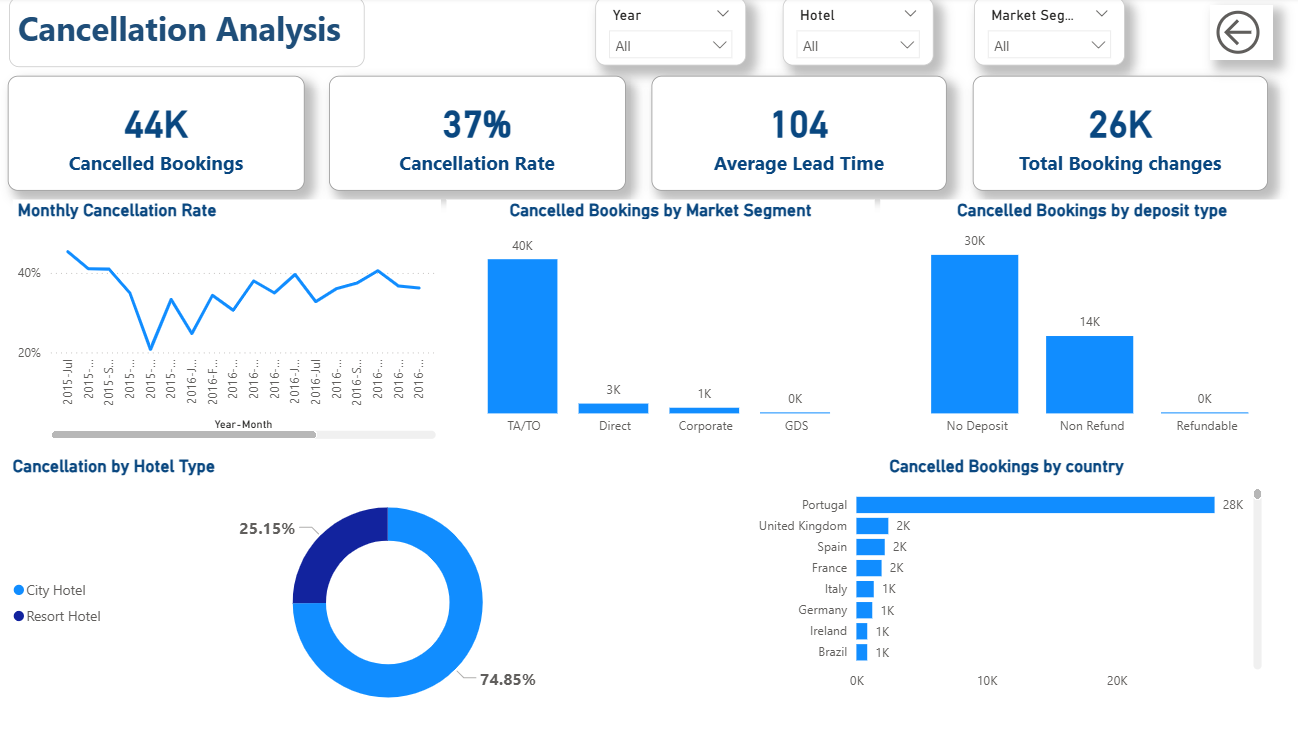

What the dashboard file says about the page in this screenshot:
{"tool":"powerbi","page":{"name":"Cancellation Analysis","canvas":[1280,720],"ordinal":4},"visuals":[{"type":"textbox","box":[9.6,0,348.5,68.6],"z":0},{"type":"slicer","fields":{"Values":["Dim_Date.Year"]},"box":[584.6,0,148.2,67.2],"z":1000},{"type":"slicer","fields":{"Values":["Dim_Hotel.hotel"]},"box":[768.4,0,148.2,67.2],"z":2000},{"type":"slicer","fields":{"Values":["Dim_MarketSegment.market_segment"]},"box":[956.4,0,148.2,67.2],"z":3000},{"type":"card","fields":{"Values":["hotel_bookings.Cancelled Bookings"]},"box":[8.2,76.8,290.9,112.5],"z":4000},{"type":"card","fields":{"Values":["hotel_bookings.Cancellation Rate"]},"box":[323.8,76.8,290.9,112.5],"z":5000},{"type":"card","fields":{"Values":["hotel_bookings.Average Lead Time"]},"box":[639.5,76.8,289.5,112.5],"z":6000},{"type":"card","fields":{"Values":["Sum(hotel_bookings.booking_changes)"]},"box":[955.1,76.8,289.5,112.5],"z":7000},{"type":"clusteredColumnChart","title":"Cancelled Bookings by Market Segment","fields":{"Category":["hotel_bookings.distribution_channel"],"Y":["hotel_bookings.Cancelled Bookings"]},"box":[439.1,199,420,240],"z":8000},{"type":"lineChart","title":"Monthly Cancellation Rate","fields":{"Y":["hotel_bookings.Cancellation Rate"],"Category":["Dim_Date.Year-Month"]},"box":[13.7,199,420,240],"z":9000},{"type":"donutChart","title":"Cancellation by Hotel Type","fields":{"Category":["Dim_Hotel.hotel"],"Y":["hotel_bookings.Cancelled Bookings"]},"box":[8.2,450.1,650.4,269],"z":10000},{"type":"columnChart","title":"Cancelled Bookings by deposit type","fields":{"Category":["hotel_bookings.deposit_type"],"Y":["hotel_bookings.Cancelled Bookings"]},"box":[864,199,416,240],"z":11000},{"type":"clusteredBarChart","title":"Cancelled Bookings by country","fields":{"Y":["hotel_bookings.Cancelled Bookings"],"Category":["Dim_country.Country Name"]},"box":[732.8,450.1,510.5,238.8],"z":12000},{"type":"actionButton","box":[1188.1,6.8,61.3,54.5],"z":13000}]}

Visuals, with their boxes in screenshot pixels (x1, y1, x2, y2), scaled from the page's 1280x720 canvas onto the 1298x731 screenshot:
textbox: bbox(10, 0, 363, 70)
slicer - Dim_Date.Year: bbox(593, 0, 743, 68)
slicer - Dim_Hotel.hotel: bbox(779, 0, 929, 68)
slicer - Dim_MarketSegment.market_segment: bbox(970, 0, 1120, 68)
card - hotel_bookings.Cancelled Bookings: bbox(8, 78, 303, 192)
card - hotel_bookings.Cancellation Rate: bbox(328, 78, 623, 192)
card - hotel_bookings.Average Lead Time: bbox(648, 78, 942, 192)
card - Sum(hotel_bookings.booking_changes): bbox(969, 78, 1262, 192)
"Cancelled Bookings by Market Segment" clusteredColumnChart: bbox(445, 202, 871, 446)
"Monthly Cancellation Rate" lineChart: bbox(14, 202, 440, 446)
"Cancellation by Hotel Type" donutChart: bbox(8, 457, 668, 730)
"Cancelled Bookings by deposit type" columnChart: bbox(876, 202, 1297, 446)
"Cancelled Bookings by country" clusteredBarChart: bbox(743, 457, 1261, 699)
actionButton: bbox(1205, 7, 1267, 62)
